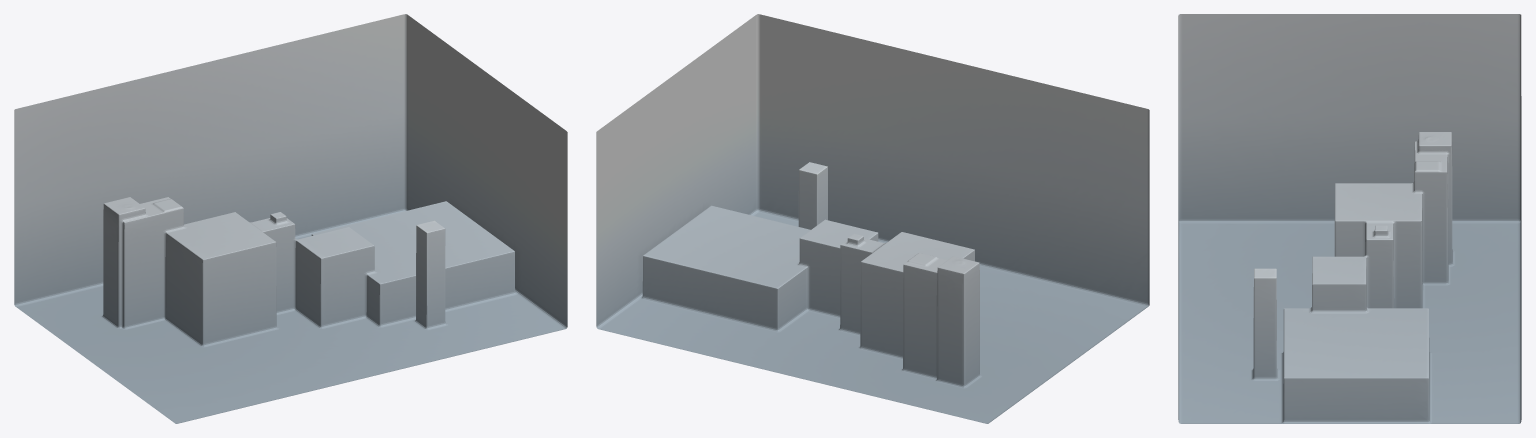
Rendered from frostmothers_cradle_col.glb.
The picture shows the model from 3 angles, left to right: view 1: azimuth 30°, elevation 25°; view 2: azimuth 150°, elevation 25°; view 3: azimuth 270°, elevation 25°; orthographic projection. The views are drawn at different scales.
Visible parts, largest first — view 1: geometry_0; view 2: geometry_0; view 3: geometry_0.
Part boxes in pixels (x1,y1,x2,y2): geometry_0: (14,14,567,423); geometry_0: (596,14,1149,423); geometry_0: (1178,14,1521,423).
Size of the model in its own units: 142 by 67.86 by 101.
